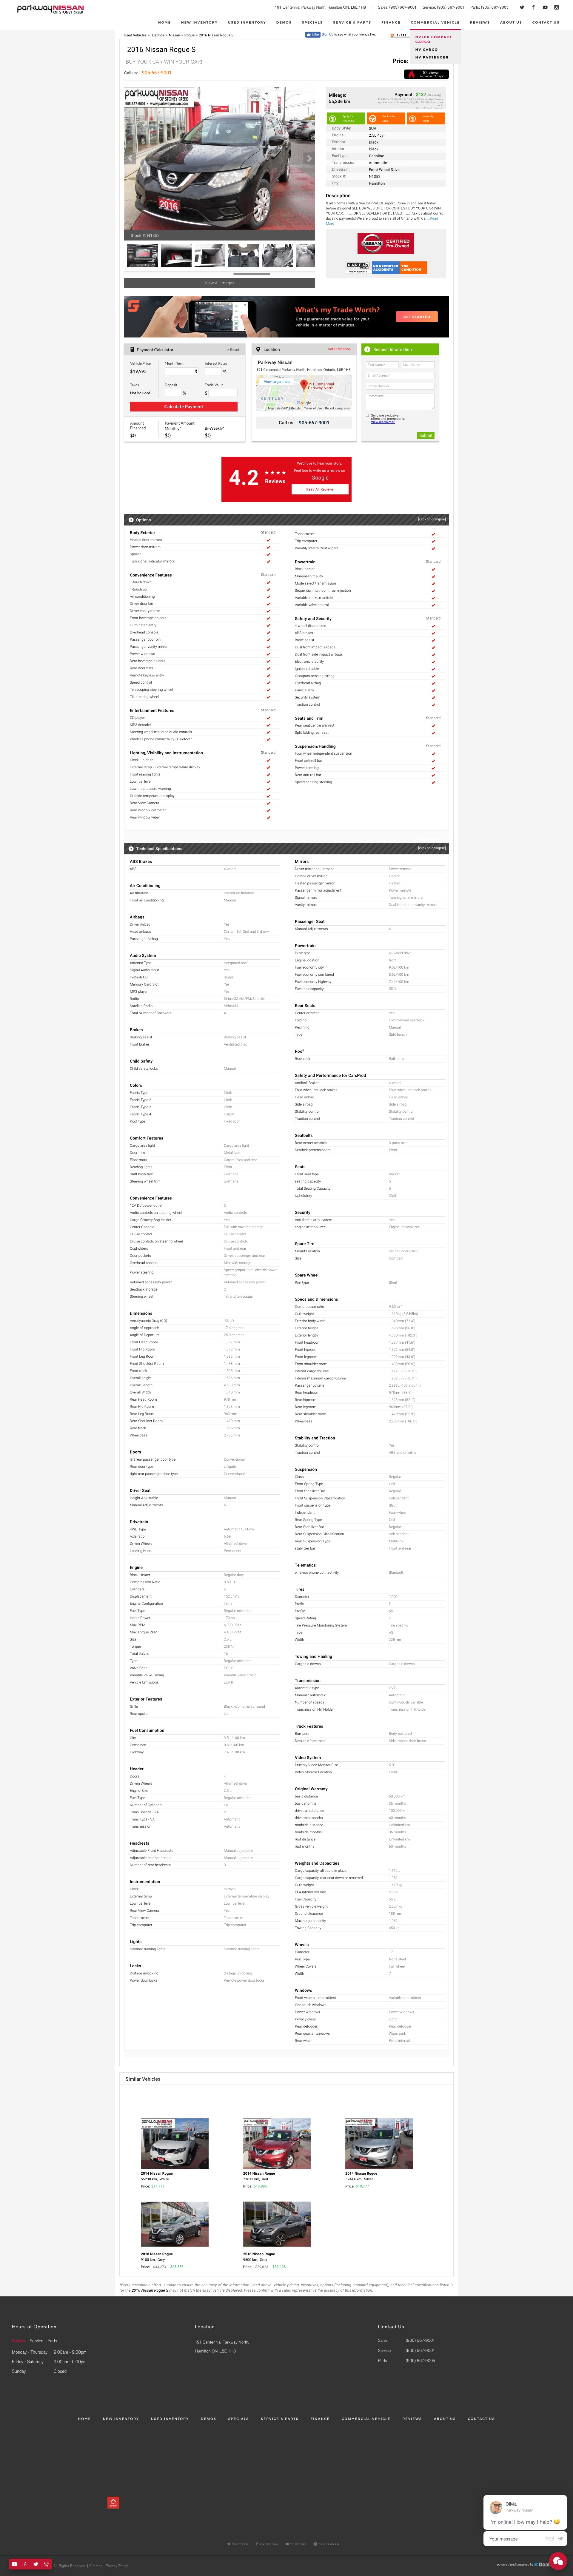car: (307, 154, 312, 163)
